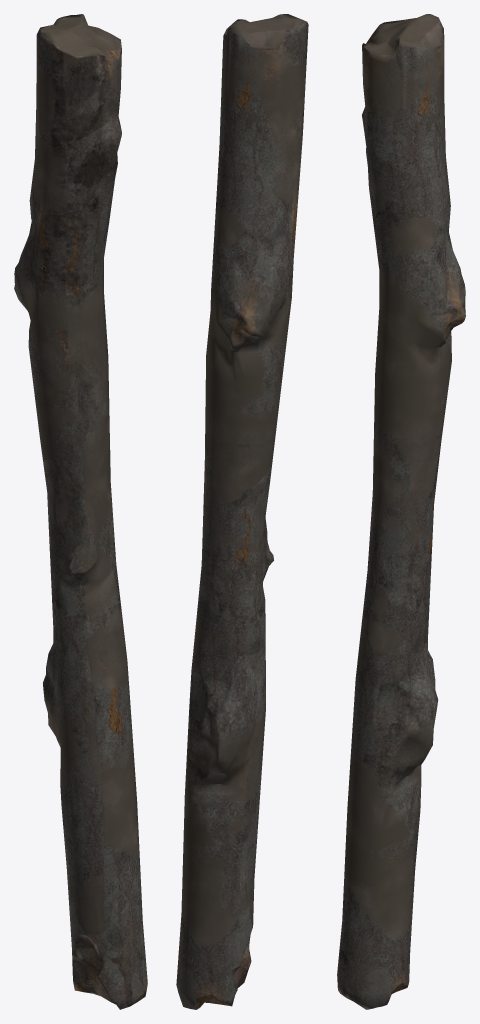
The model's file is SM_LogSmall_02.glb.
3 views of the same model, side by side, from view 1: azimuth 90°, elevation 25°; view 2: azimuth 210°, elevation 25°; view 3: azimuth 270°, elevation 25° (orthographic). The views are drawn at different scales.
Parts seen in each view (by area): view 1: SM_LogSmall_02; view 2: SM_LogSmall_02; view 3: SM_LogSmall_02.
Part boxes in pixels (x1,y1,x2,y2): SM_LogSmall_02: (14,14,147,1009); SM_LogSmall_02: (176,14,308,1009); SM_LogSmall_02: (337,14,465,1009).
Size of the model in its own units: 0.189 by 1.7 by 0.2065.
1 material, 1 textured.
